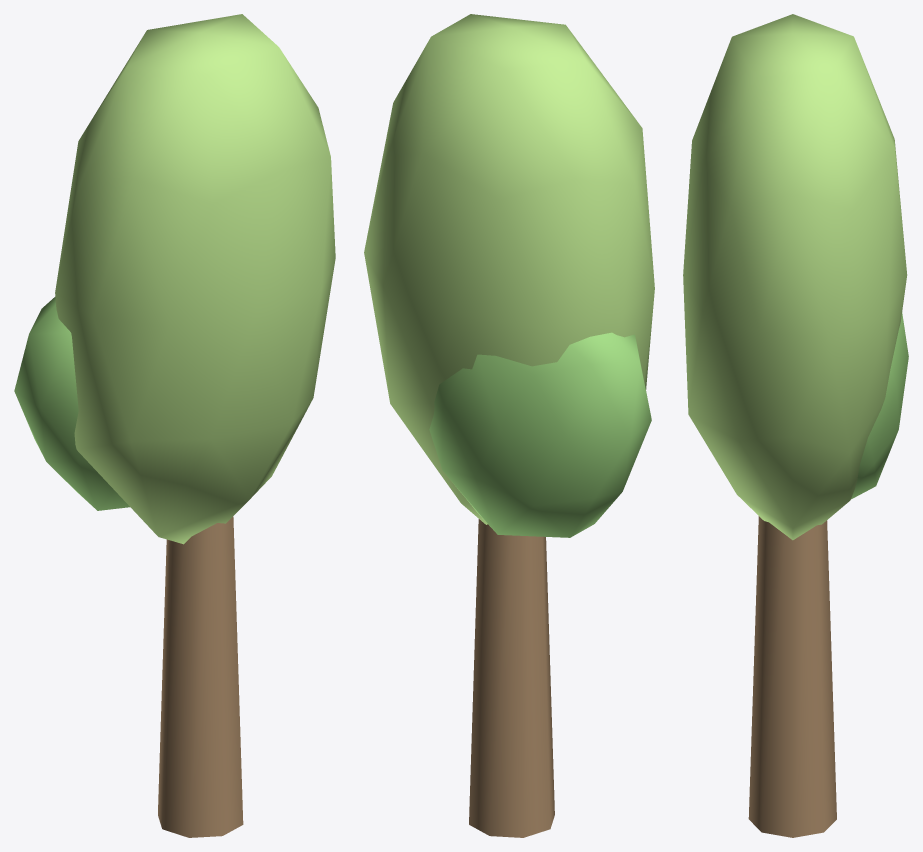
Rendered from Forest_Tree2.fbx.
3 renders of one model, left to right at view 1: azimuth 30°, elevation 25°; view 2: azimuth 150°, elevation 25°; view 3: azimuth 270°, elevation 25°, orthographic.
Visible parts, largest first — view 1: Forest_Tree2; view 2: Forest_Tree2; view 3: Forest_Tree2.
Boxes of the visible parts, bbox=[...] form: Forest_Tree2: bbox=[14, 14, 335, 837]; Forest_Tree2: bbox=[364, 14, 654, 837]; Forest_Tree2: bbox=[683, 14, 908, 837].
Size of the model in its own units: 2.02 by 5.4 by 1.41.
